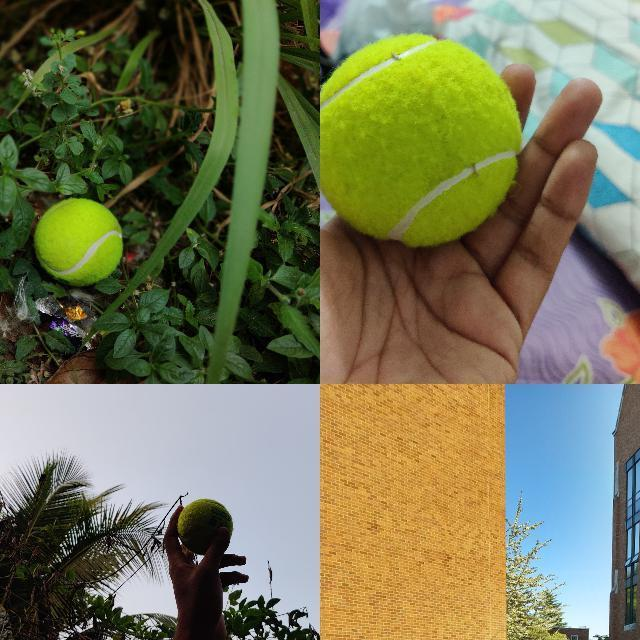tennis-ball: (320, 30, 523, 249), (34, 198, 122, 284), (176, 497, 234, 555)
